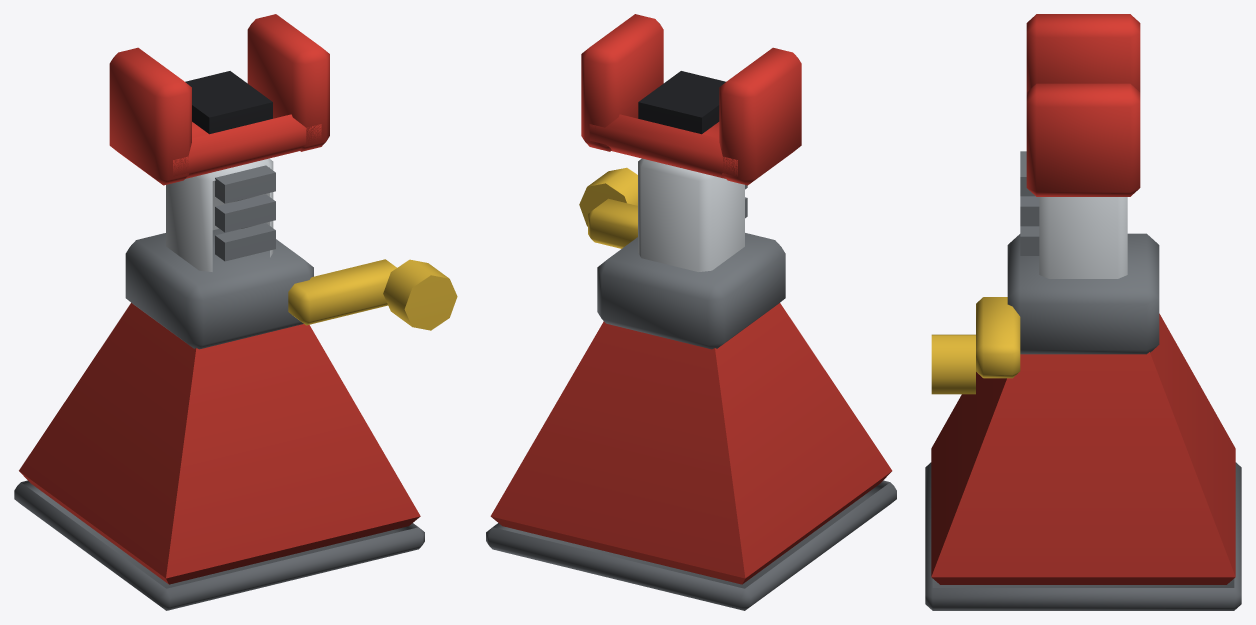
File: SM_JackStand_01.glb
The picture shows the model from 3 angles, left to right: view 1: azimuth 30°, elevation 25°; view 2: azimuth 150°, elevation 25°; view 3: azimuth 270°, elevation 25°; orthographic projection. The views are drawn at different scales.
Visible parts, largest first — view 1: SM_JackStand_01; view 2: SM_JackStand_01; view 3: SM_JackStand_01.
Boxes of the visible parts, x1,y1,x2,y2 form: SM_JackStand_01: (14,14,457,610); SM_JackStand_01: (486,14,896,610); SM_JackStand_01: (925,14,1241,610).
Bounding box in the file's own units: 0.28 × 0.43 × 0.25.
1 material, 1 textured.
